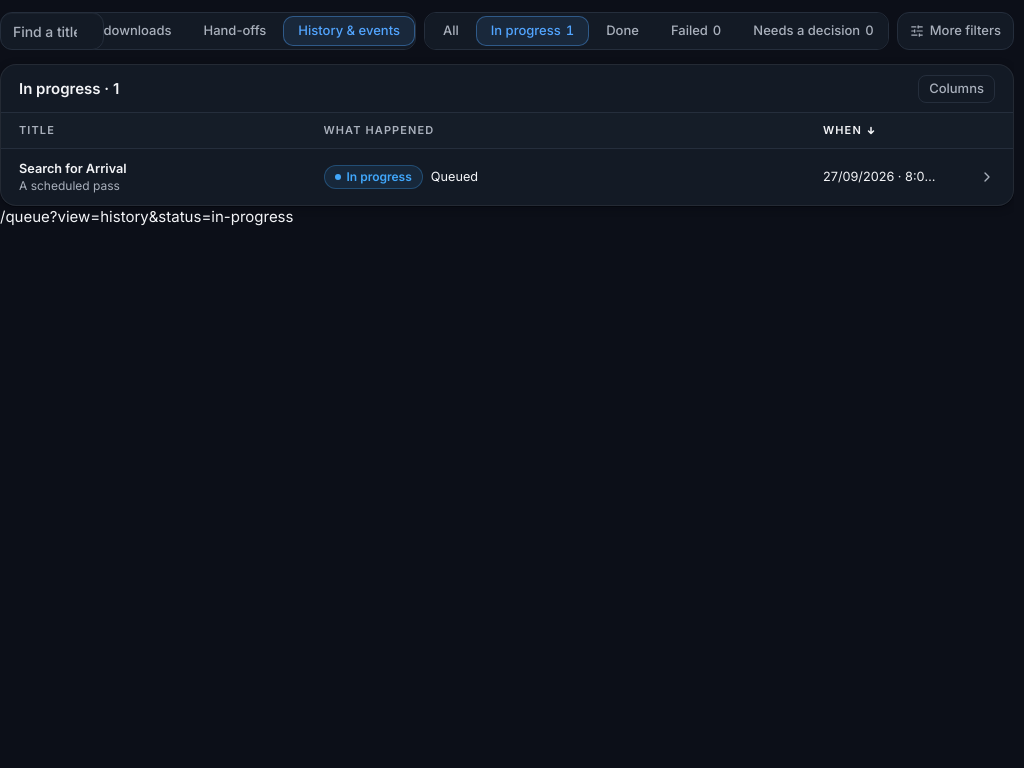
Test: Activity's drawers and their failures (#1329) › the job drawer shows the run facts: attempts, scheduled, 'Not started', 'Not finished' and the worker, and what was asked
The image size is (1024, 768).
Click the text "Search for Arrival": point(73, 168) [19,161,127,176]
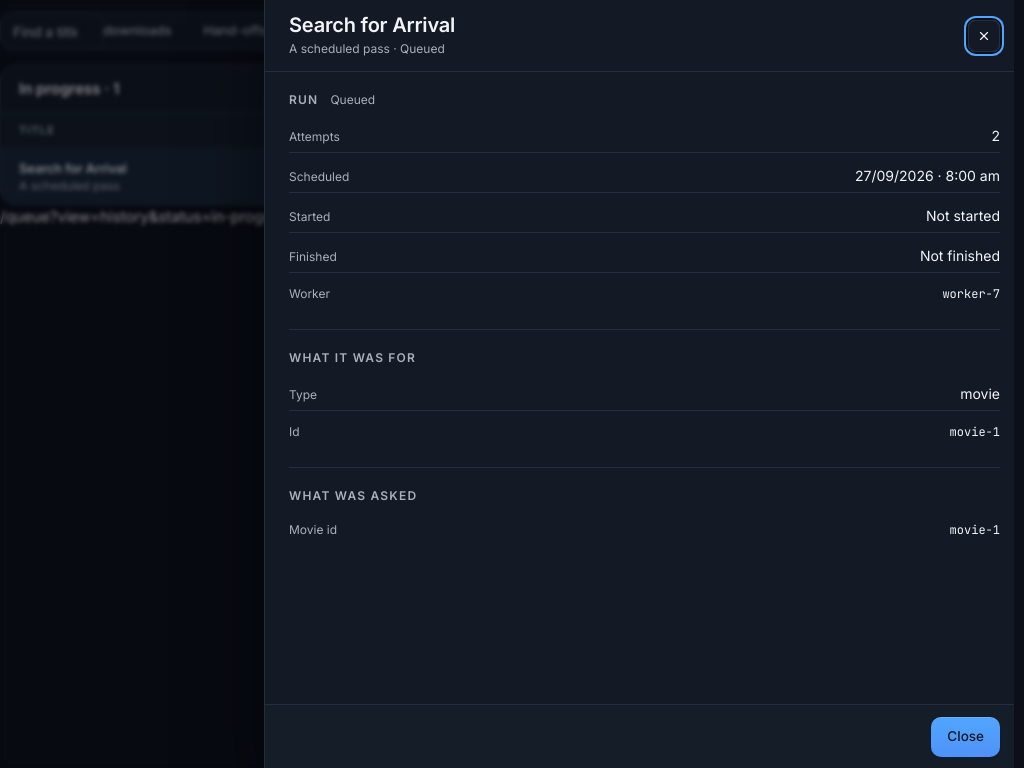
Expected: the text "What was asked" is shown, [289,488,417,503]
